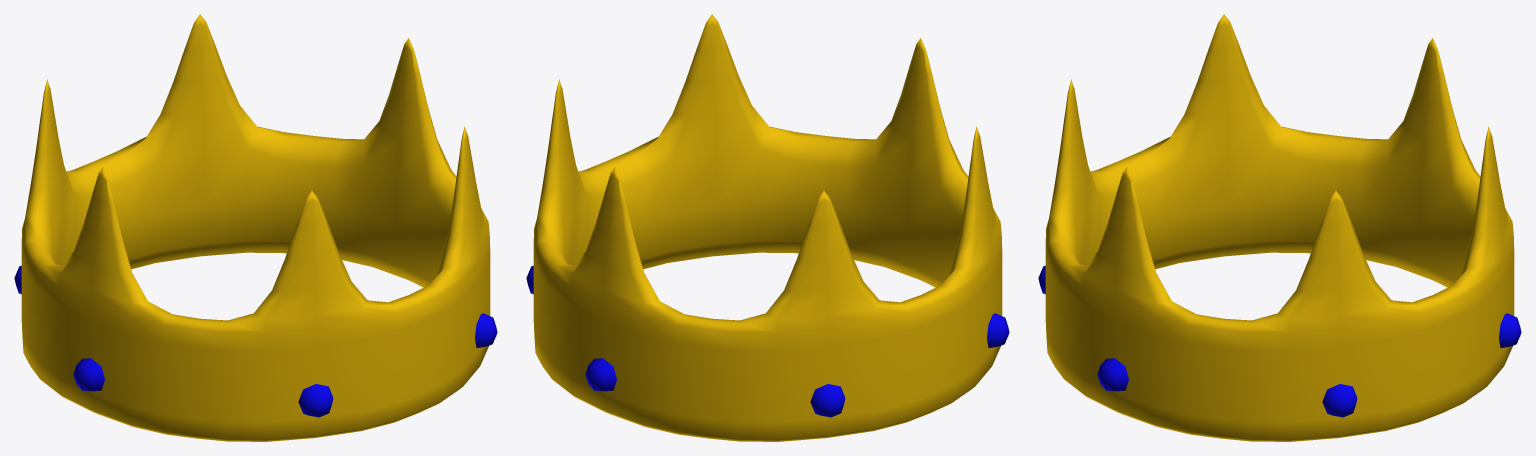
The model's file is corona.fbx.
3 views of the same model, side by side, from view 1: azimuth 30°, elevation 25°; view 2: azimuth 150°, elevation 25°; view 3: azimuth 270°, elevation 25° (orthographic).
Visible parts, largest first — view 1: Cylinder; view 2: Cylinder; view 3: Cylinder.
Boxes of the visible parts, <box> form: Cylinder: <box>14,14,497,441</box>; Cylinder: <box>526,14,1009,441</box>; Cylinder: <box>1038,14,1521,441</box>.
Bounding box in the file's own units: 199 × 111 × 199.
